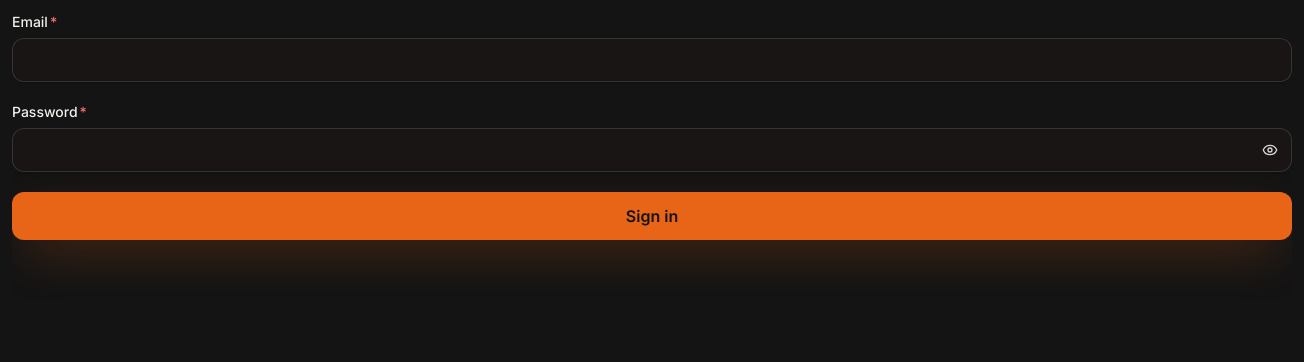
Test: AdminLoginForm › shows a loading state while signing in
Later steps or results of the test are not shown.
Type "admin@haulixlogistics.com" into the field labelled "Email*" at (652, 60), box top-left (12, 38), bottom-right (1292, 82)
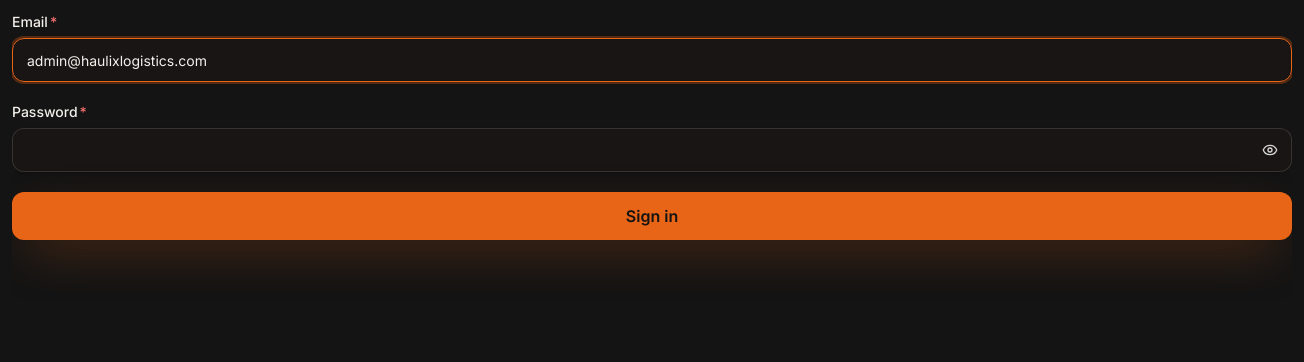
Type "a-password" into the password field labelled "Password*" at (652, 150), box top-left (12, 128), bottom-right (1292, 172)
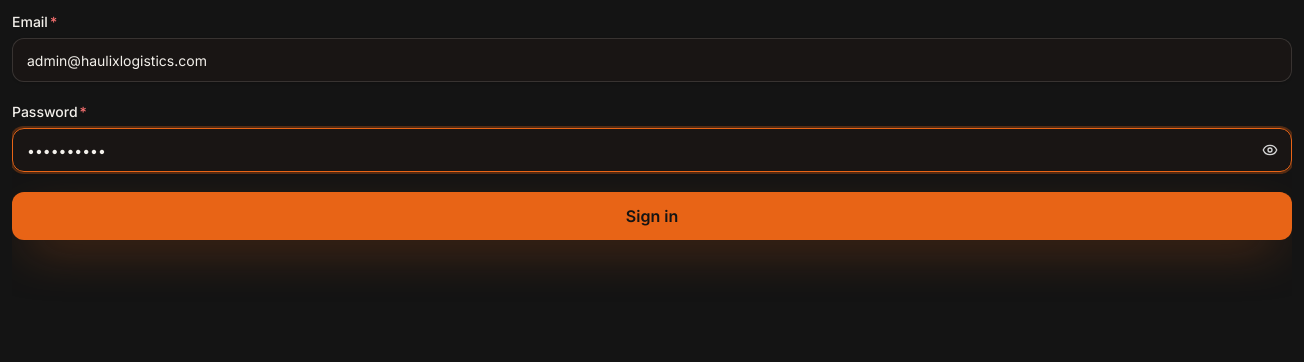
Click the button "Sign in" at (652, 216), box top-left (12, 192), bottom-right (1292, 240)
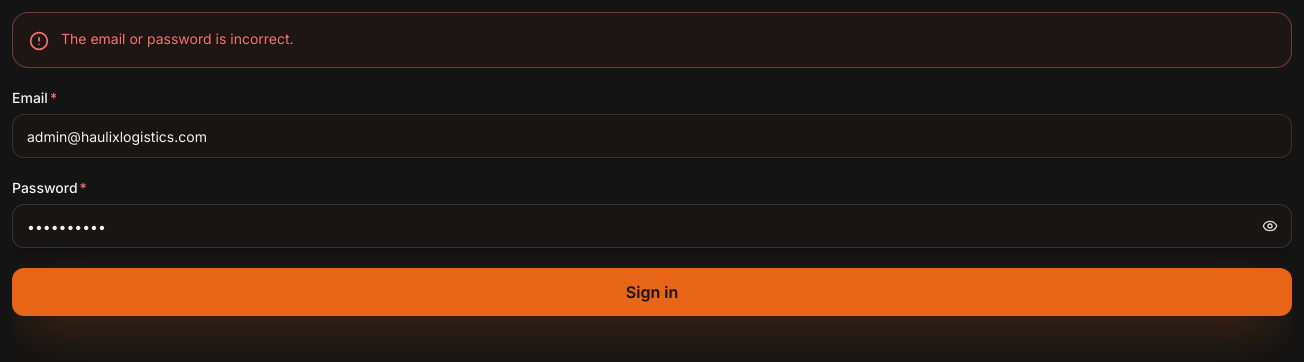
Check: the button "Sign in" is enabled, box top-left (12, 268), bottom-right (1292, 316)
Check: the message reads "The email or password is incorrect.", box top-left (61, 30), bottom-right (294, 47)
